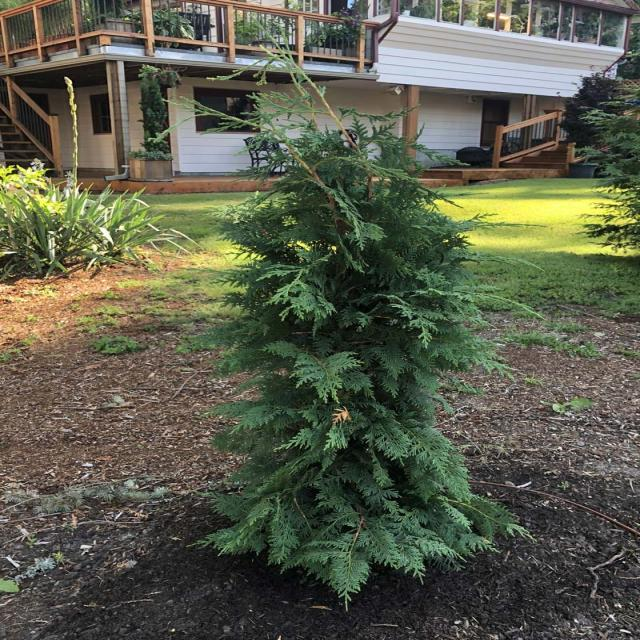Cupressus nootkatensis: (198, 108, 506, 612)
